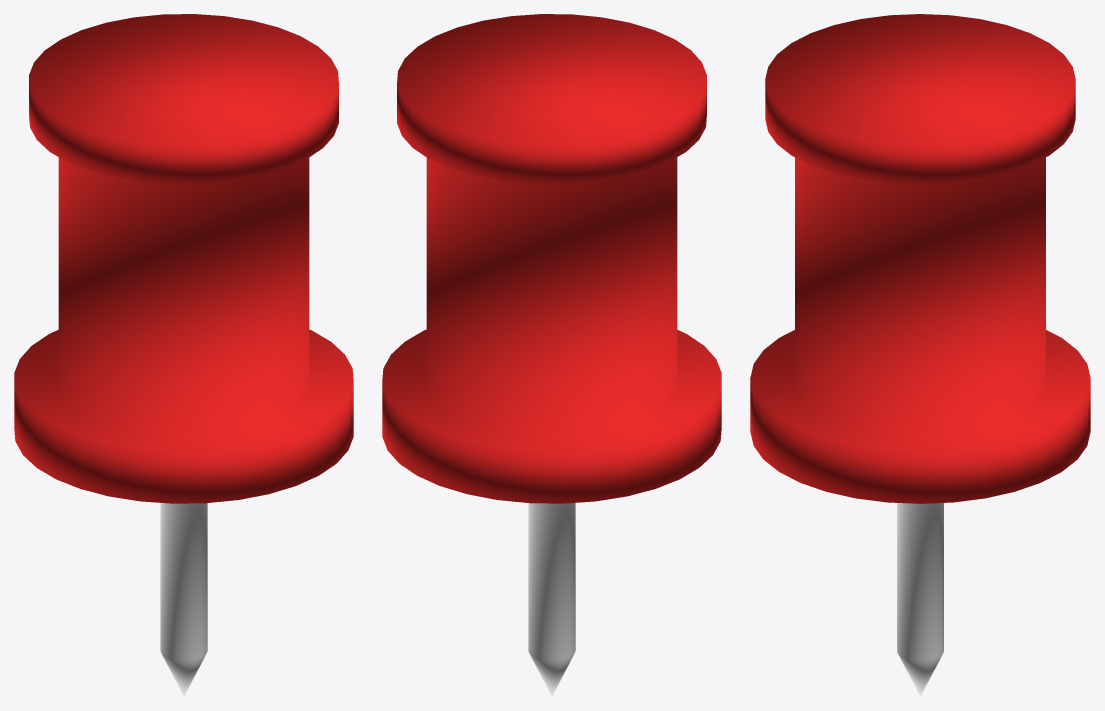
The model's file is alfiler.fbx.
3 views of the same model, side by side, from view 1: azimuth 30°, elevation 25°; view 2: azimuth 150°, elevation 25°; view 3: azimuth 270°, elevation 25° (orthographic).
Visible parts, largest first — view 1: Cilindro; view 2: Cilindro; view 3: Cilindro.
Part boxes in pixels (x1,y1,x2,y2): Cilindro: (14, 14, 353, 696); Cilindro: (382, 14, 721, 696); Cilindro: (750, 14, 1090, 696).
Size of the model in its own units: 13.54 by 27.11 by 13.54.
